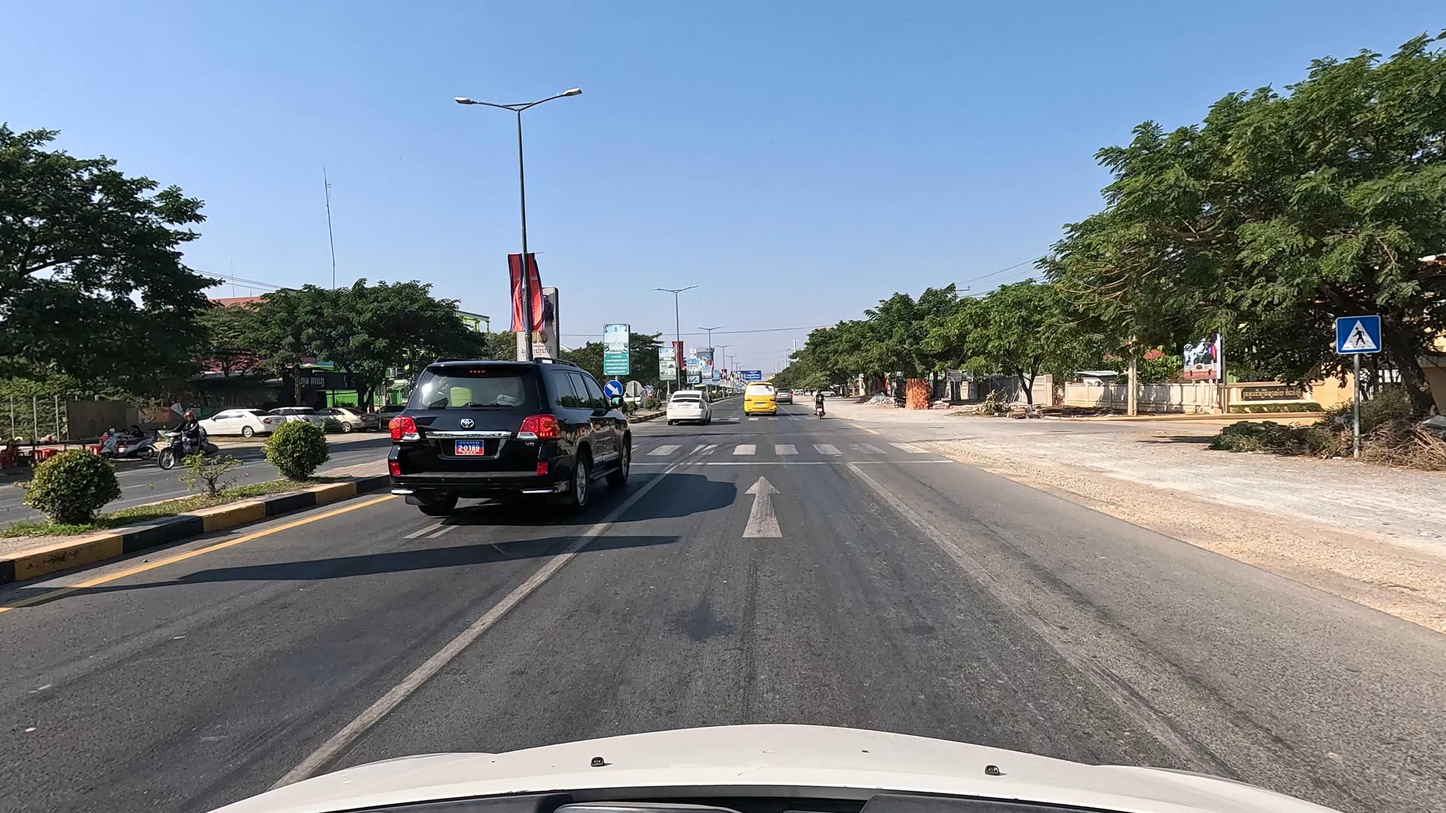pedestrian_crossing: (1336, 316, 1382, 354)
